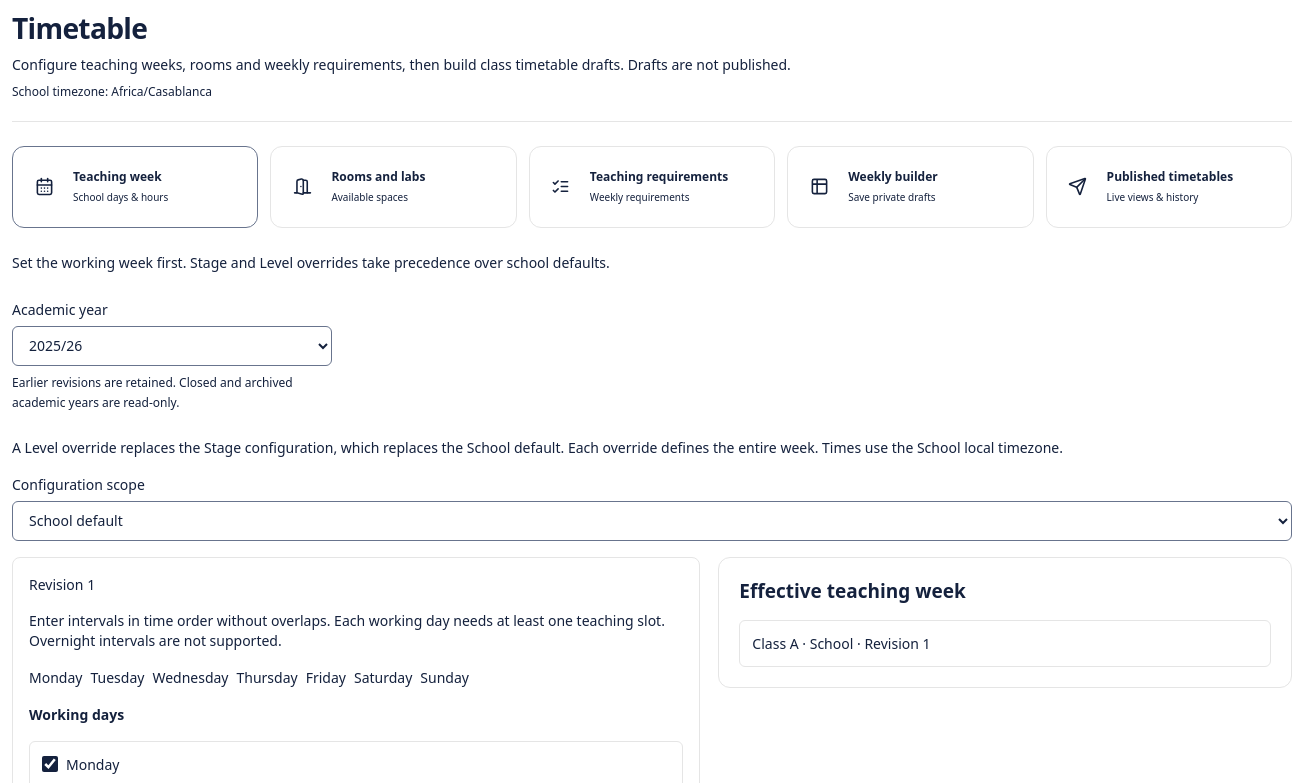
Test case: keeps a single page heading when Admin opens embedded published schedules
Click the button "Published timetables".
click(1169, 187)  # box [1046,146,1292,228]
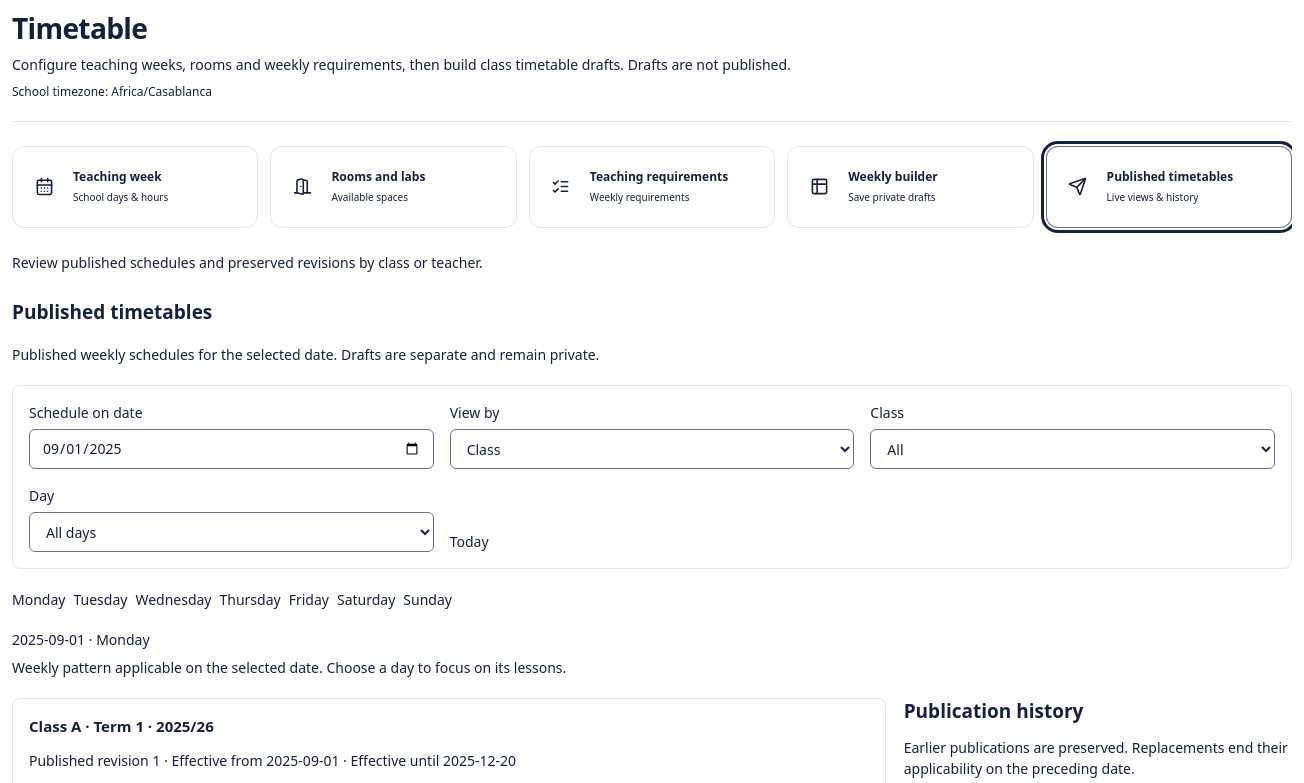
Expected: the heading "Published timetables" is shown, [12,298,212,324]
